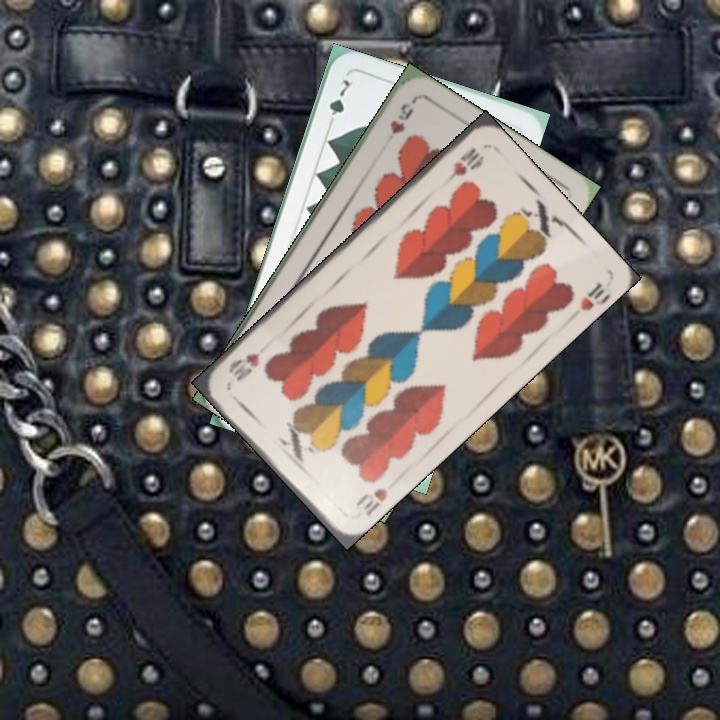G7: (324, 75, 353, 131)
H10: (438, 143, 485, 189), (352, 484, 390, 518)
H9: (385, 95, 419, 137)
